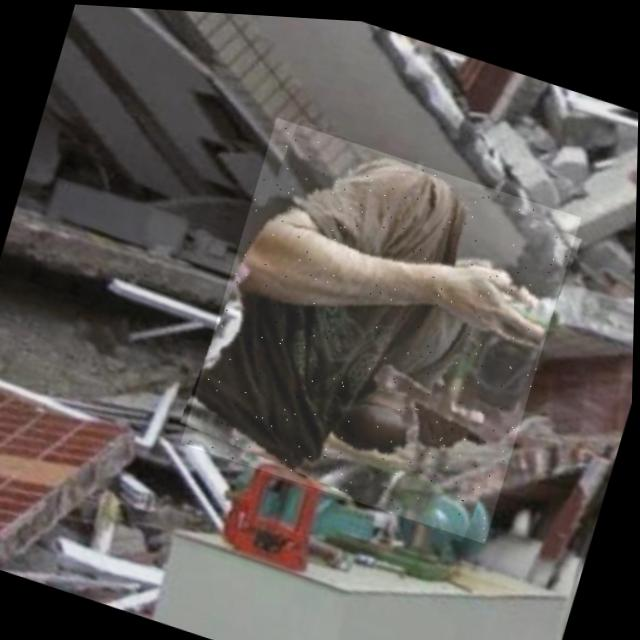Person in Rubble: (181, 110, 583, 541)
